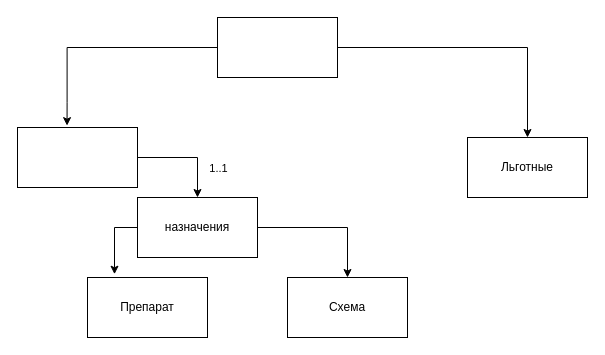
Image size: 605x355. Some labels were removed from this diagram. The box of each missing label's shape, as (x1, y1, x2, y2) in pixels:
рецепты: (216, 16, 338, 78)
рецепты 107: (16, 126, 138, 188)
